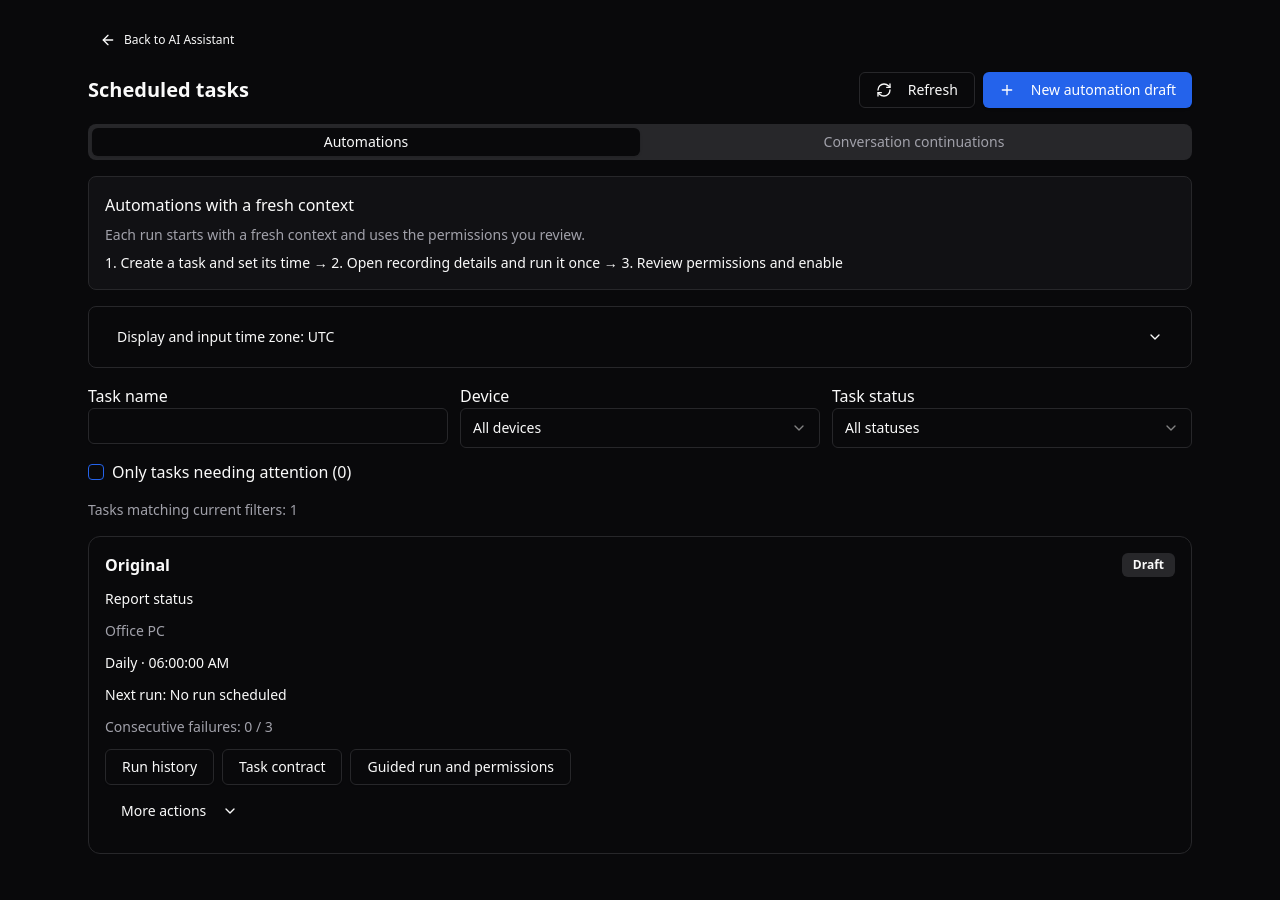
scheduled task management page › opens guided run history by task without starting or publishing anything
Expected: the heading "Original" is shown, [105,553,170,577]
Click the button "More actions". click: {"x": 180, "y": 811}
box: [105,793,254,829]
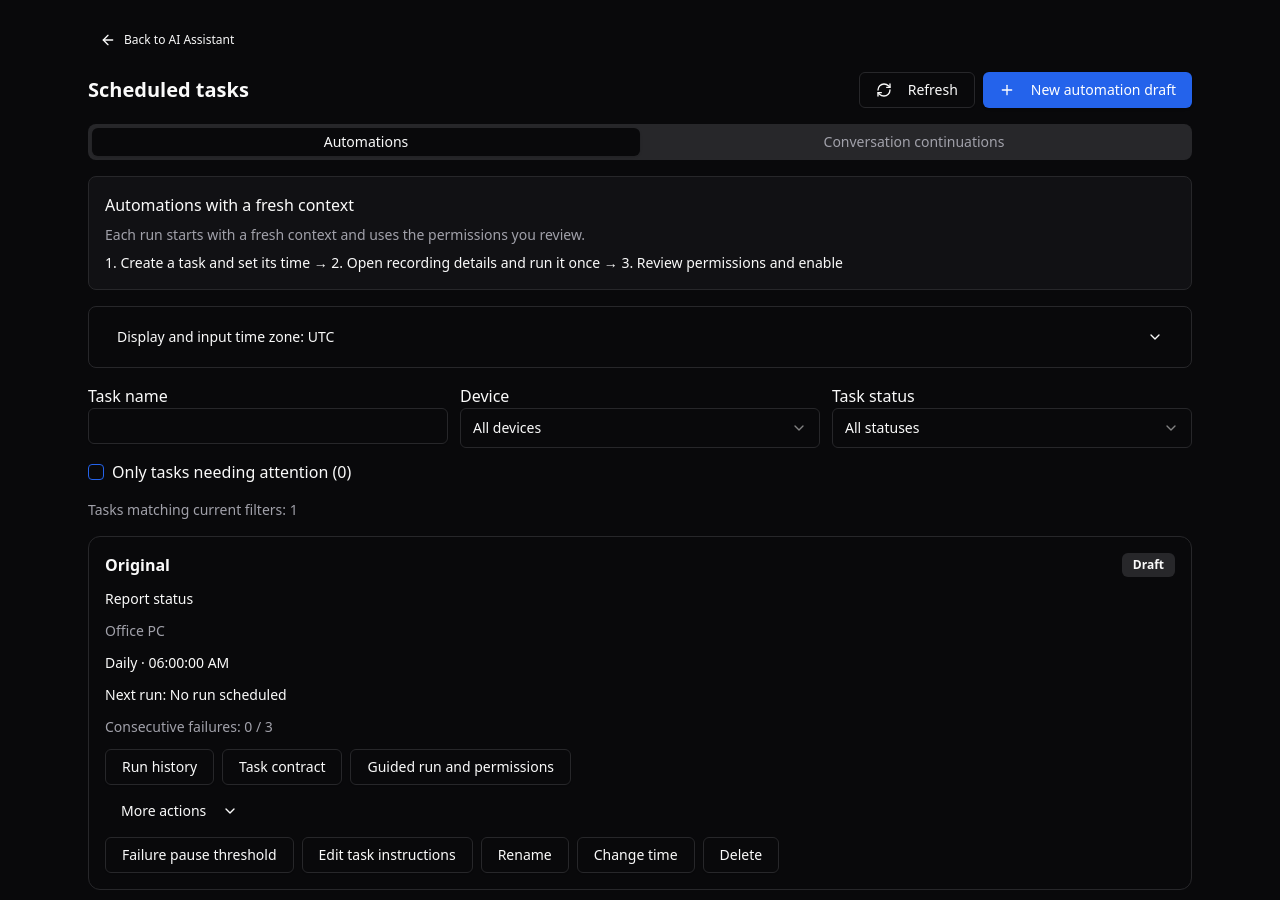
Click the button "Guided run and permissions". click: {"x": 461, "y": 767}
box: [350,749,571,785]
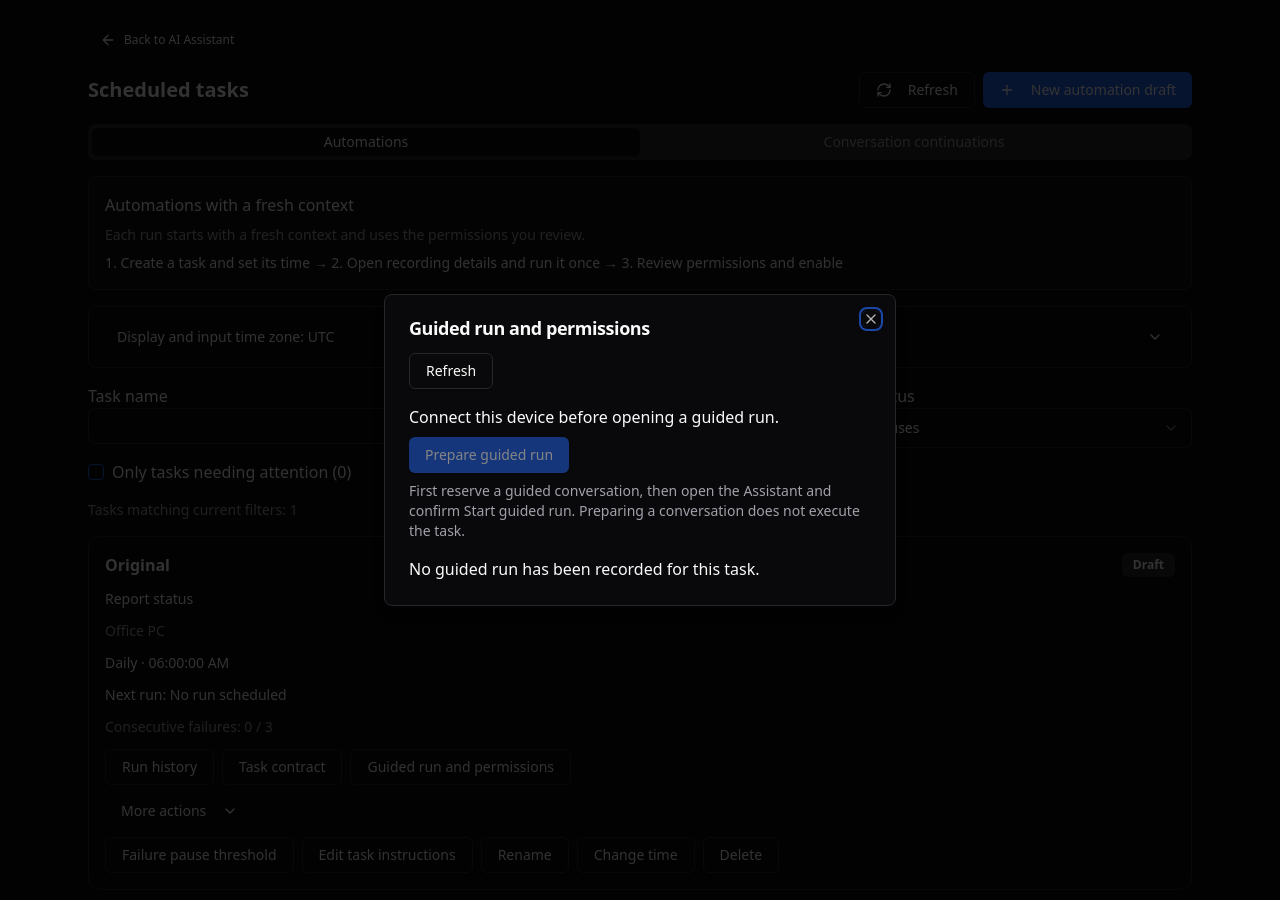
Expected: the text "No guided run has been recorded for this task." is shown, [409,558,760,580]
